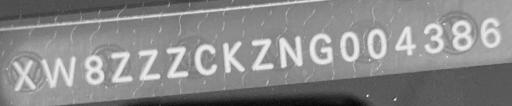letter: (38, 54, 80, 85), (306, 30, 336, 66), (135, 45, 163, 83), (219, 38, 247, 76), (191, 39, 219, 77), (420, 19, 448, 56), (108, 48, 136, 84), (276, 32, 304, 68), (248, 34, 276, 70), (10, 56, 40, 89), (164, 42, 190, 80), (336, 26, 362, 63), (478, 14, 504, 49), (448, 17, 474, 52), (366, 26, 390, 62), (80, 51, 106, 84), (392, 23, 418, 56)
